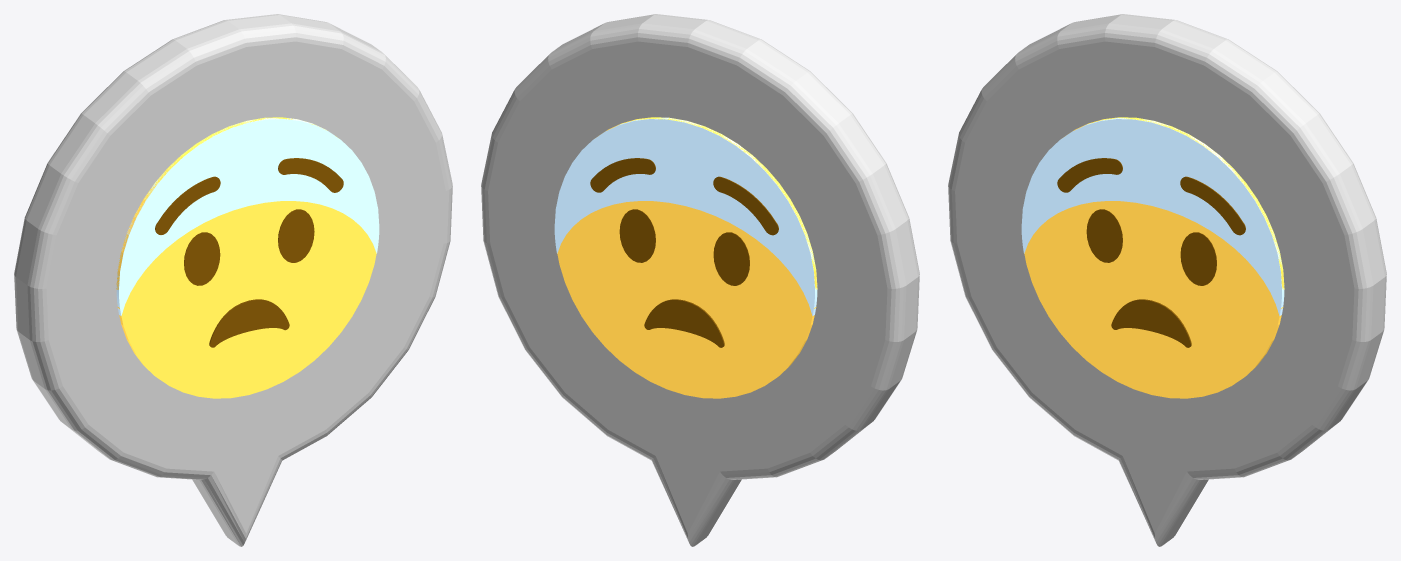
File: fearful.glb
3 views of the same model, side by side, from view 1: azimuth 30°, elevation 25°; view 2: azimuth 150°, elevation 25°; view 3: azimuth 330°, elevation 25° (orthographic).
Parts seen in each view (by area): view 1: EmotionBubble; view 2: EmotionBubble; view 3: EmotionBubble.
Part boxes in pixels (x1,y1,x2,y2): EmotionBubble: (14, 14, 452, 546); EmotionBubble: (481, 14, 919, 546); EmotionBubble: (948, 14, 1386, 546).
Bounding box in the file's own units: 5.29 × 6.16 × 0.706.
